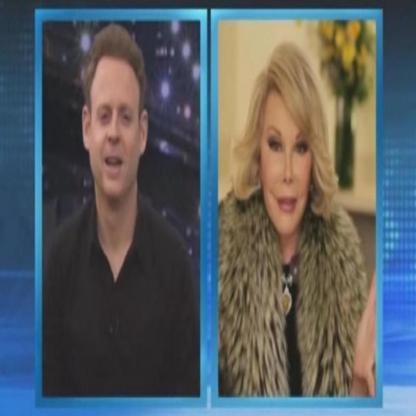face: (262, 84, 312, 233), (91, 61, 142, 199)
